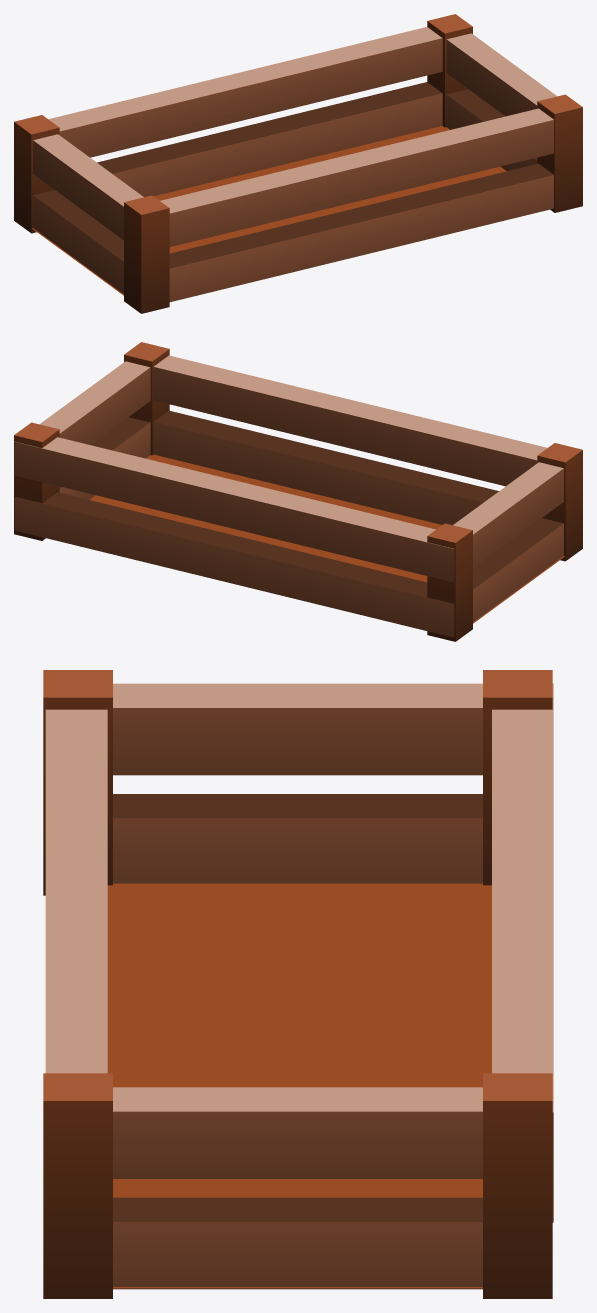
Rendered from food-box.fbx.
3 renders of one model, top to bottom at view 1: azimuth 30°, elevation 25°; view 2: azimuth 150°, elevation 25°; view 3: azimuth 270°, elevation 25°, orthographic. The views are drawn at different scales.
Visible parts, largest first — view 1: foodbox; view 2: foodbox; view 3: foodbox.
Part boxes in pixels (bbox=[...]): foodbox: bbox=[14, 14, 582, 313]; foodbox: bbox=[14, 342, 582, 641]; foodbox: bbox=[43, 670, 553, 1298].
Bounding box in the file's own units: 399 × 85.56 × 200.
